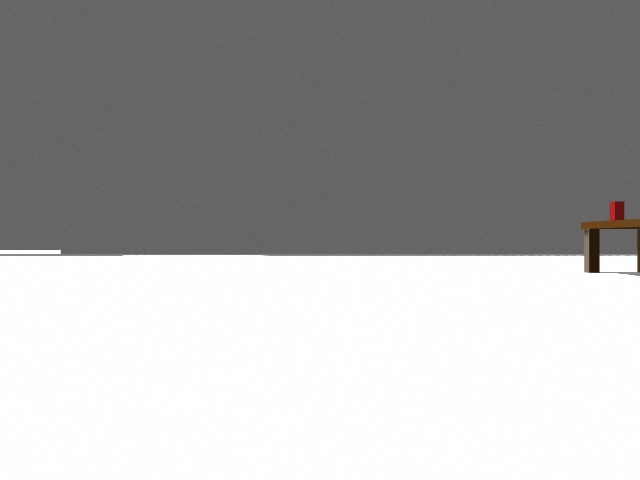red_cube: (610, 202, 615, 221)
